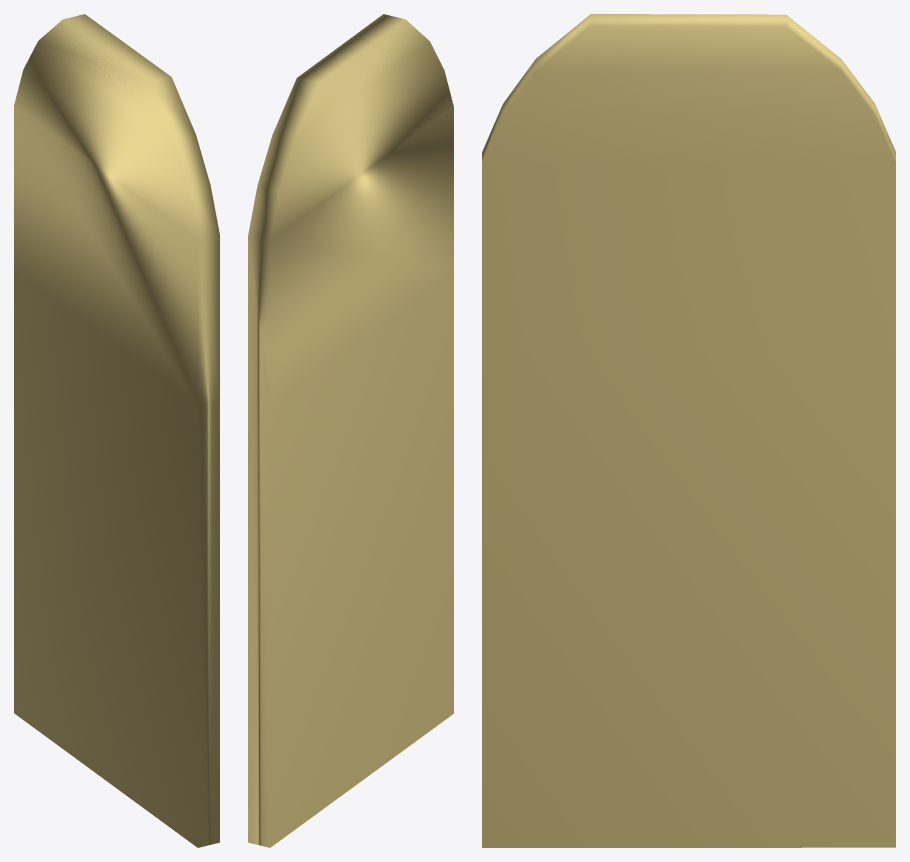
The model's file is Building_C_9.fbx.
3 renders of one model, left to right at view 1: azimuth 30°, elevation 25°; view 2: azimuth 150°, elevation 25°; view 3: azimuth 270°, elevation 25°, orthographic. The views are drawn at different scales.
Visible parts, largest first — view 1: Building_C_9; view 2: Building_C_9; view 3: Building_C_9.
Part boxes in pixels (left/top/right/bottom): Building_C_9: left=14, top=14, right=219, bottom=847; Building_C_9: left=248, top=14, right=453, bottom=847; Building_C_9: left=482, top=14, right=895, bottom=847.
Bounding box in the file's own units: 34.89 × 1101 × 503.
